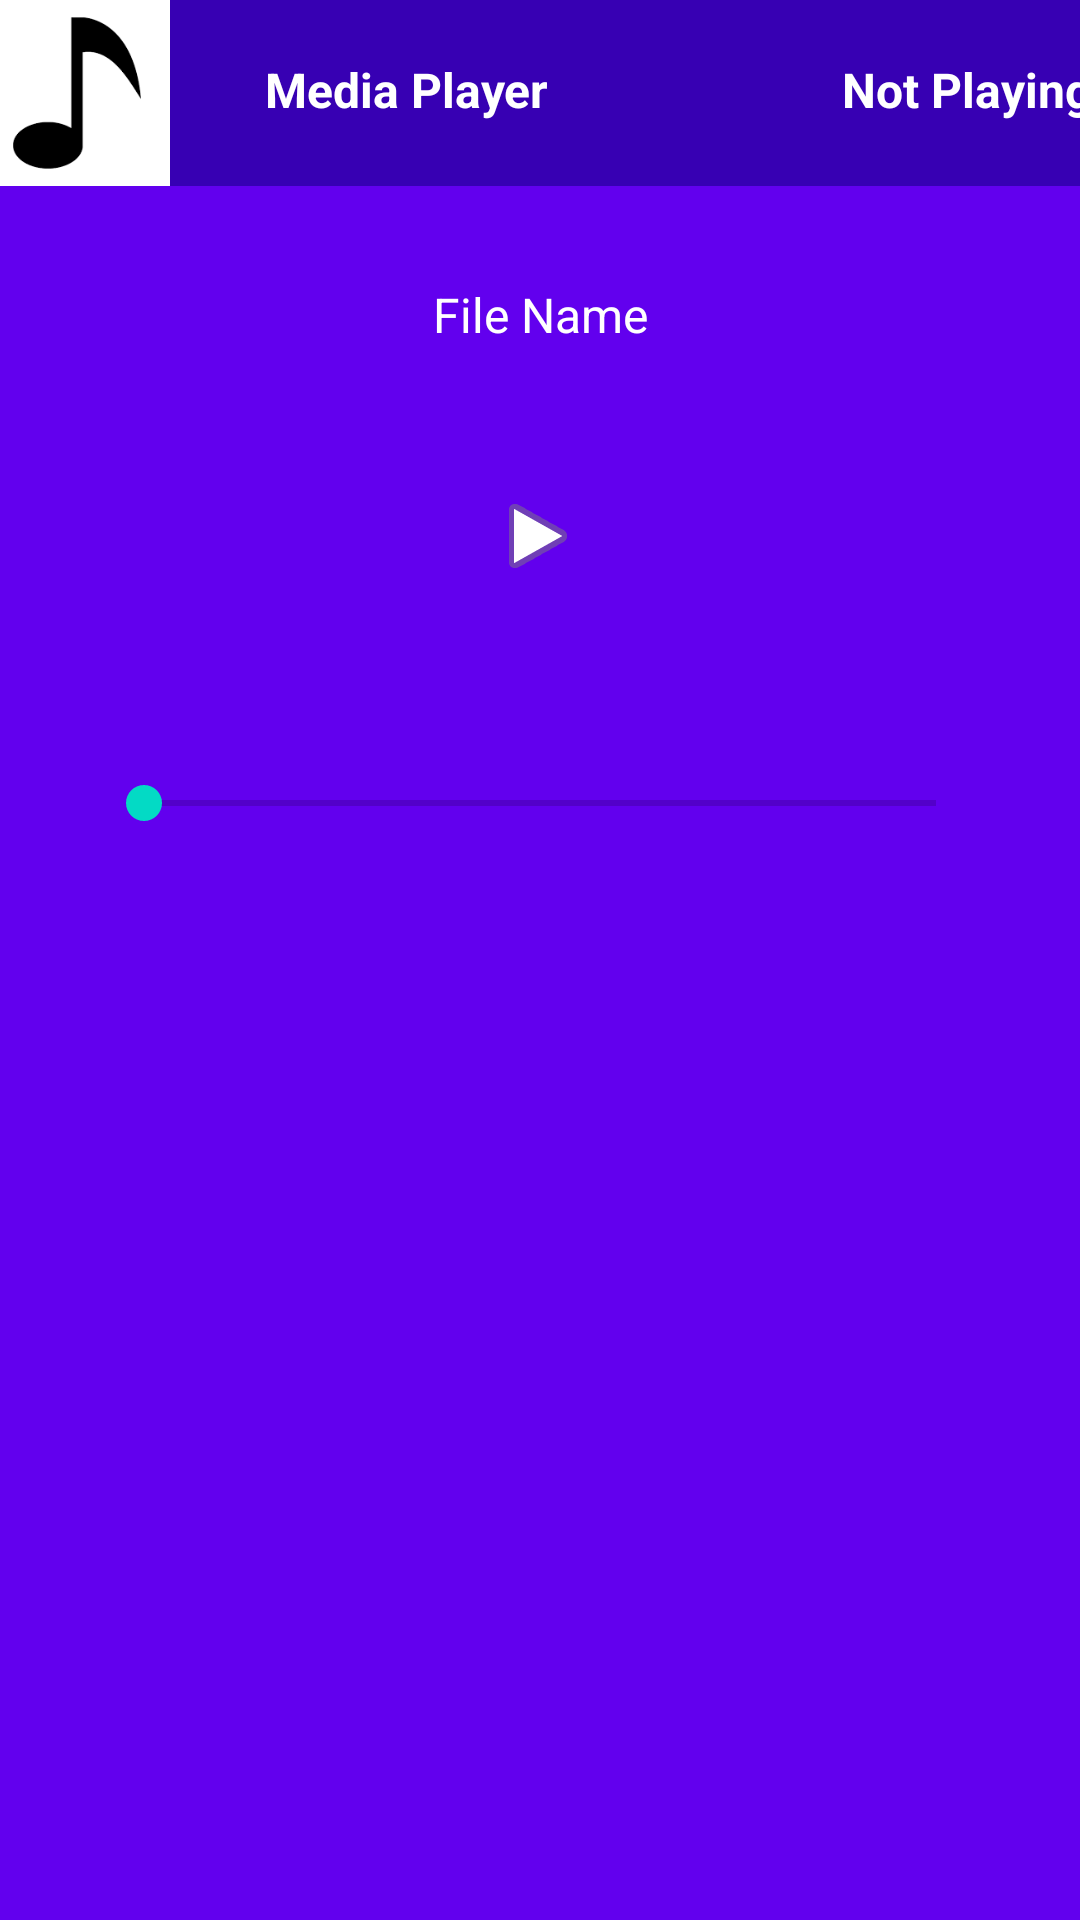

Point at icon controls on the screen. Image size 1080×1920, points as point (x, y).
play: point (538, 536)
